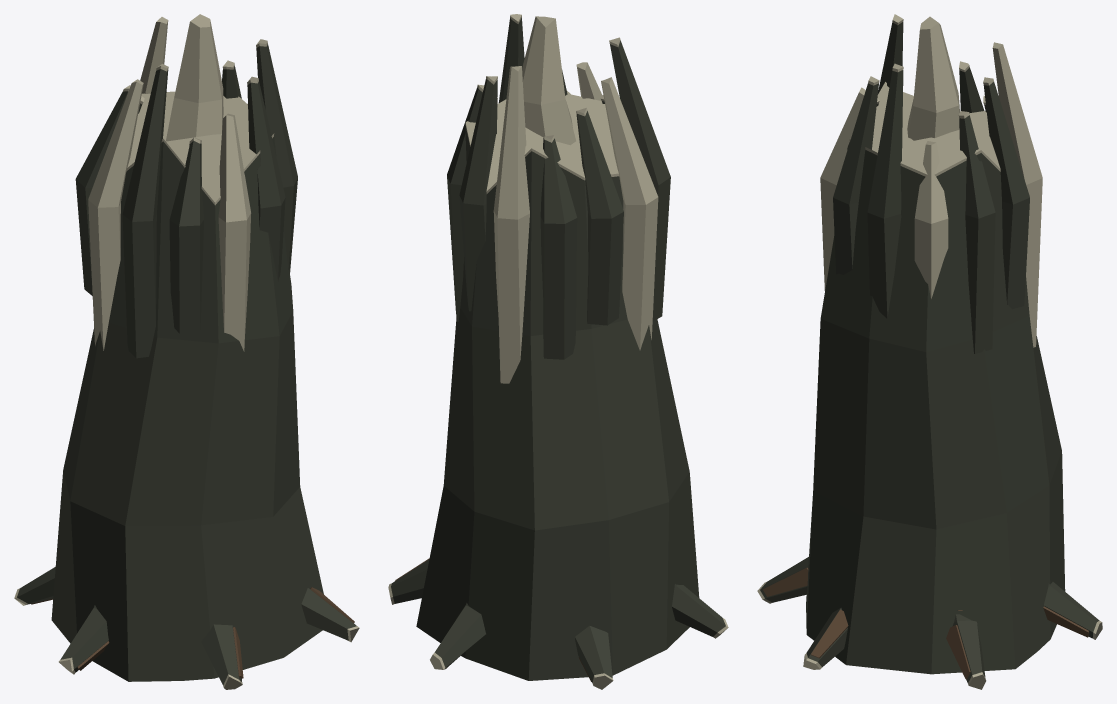
File: prop-grass-tree-dead.glb
3 views of the same model, side by side, from view 1: azimuth 30°, elevation 25°; view 2: azimuth 150°, elevation 25°; view 3: azimuth 270°, elevation 25° (orthographic).
Parts seen in each view (by area): view 1: leafless_tree; view 2: leafless_tree; view 3: leafless_tree.
Part boxes in pixels (x1,y1,x2,y2): leafless_tree: (14, 14, 359, 689); leafless_tree: (388, 14, 728, 689); leafless_tree: (757, 14, 1102, 689).
Size of the model in its own units: 0.3367 by 0.6537 by 0.3363.
